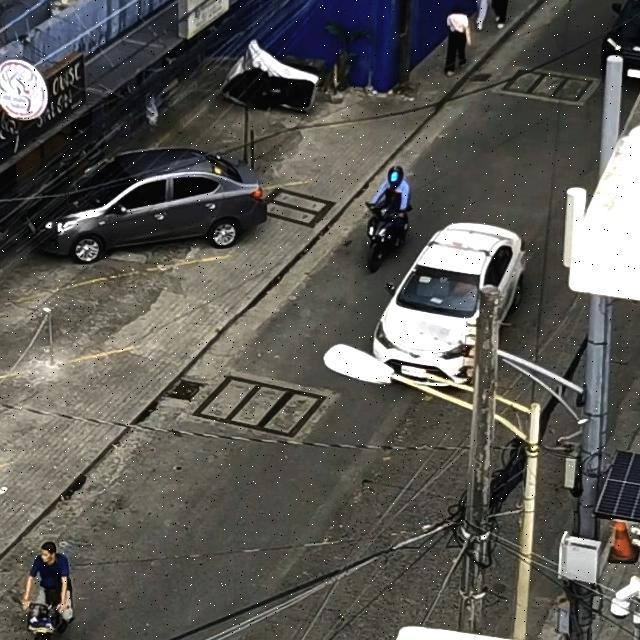Bike: (0, 510, 89, 640)
